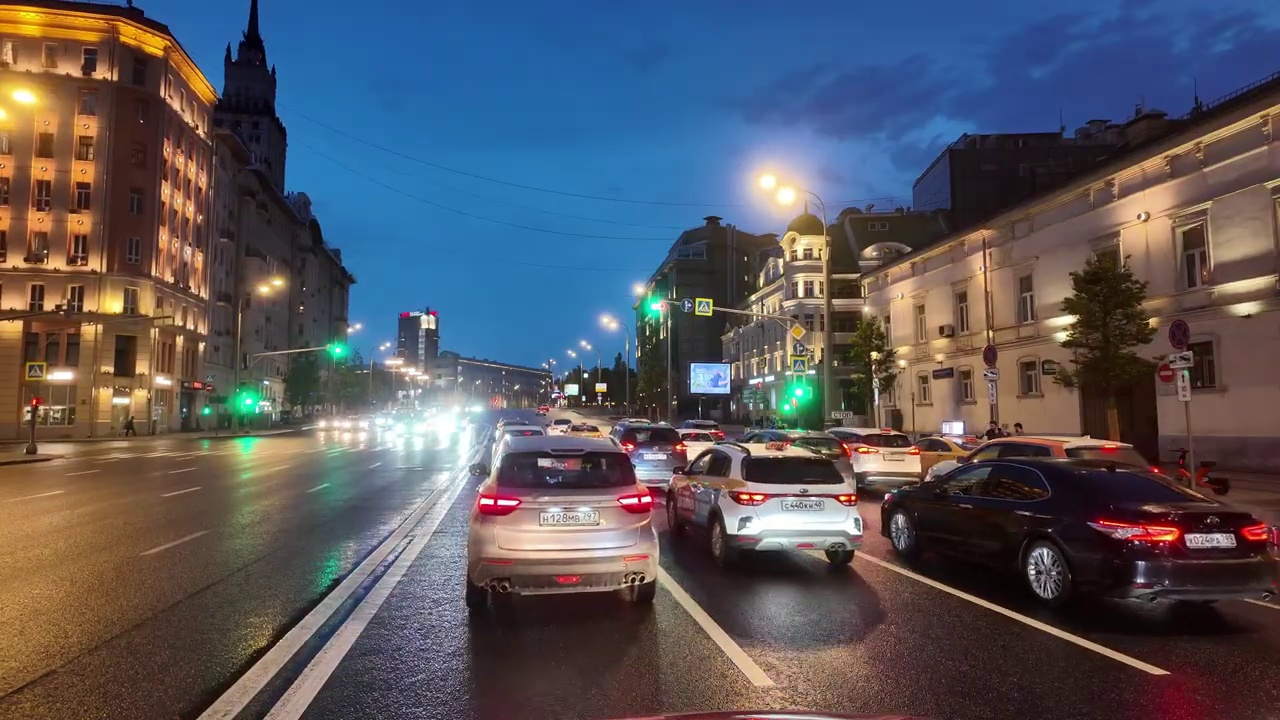acesa: (1, 81, 45, 127), (755, 170, 802, 213), (254, 272, 287, 299), (597, 312, 620, 332)
